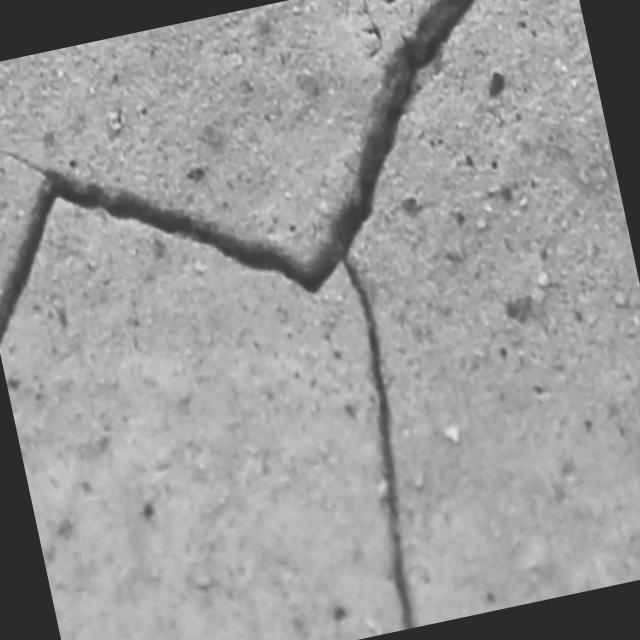crack: (35, 0, 572, 342), (320, 255, 454, 631), (0, 166, 92, 351), (0, 64, 46, 191)
